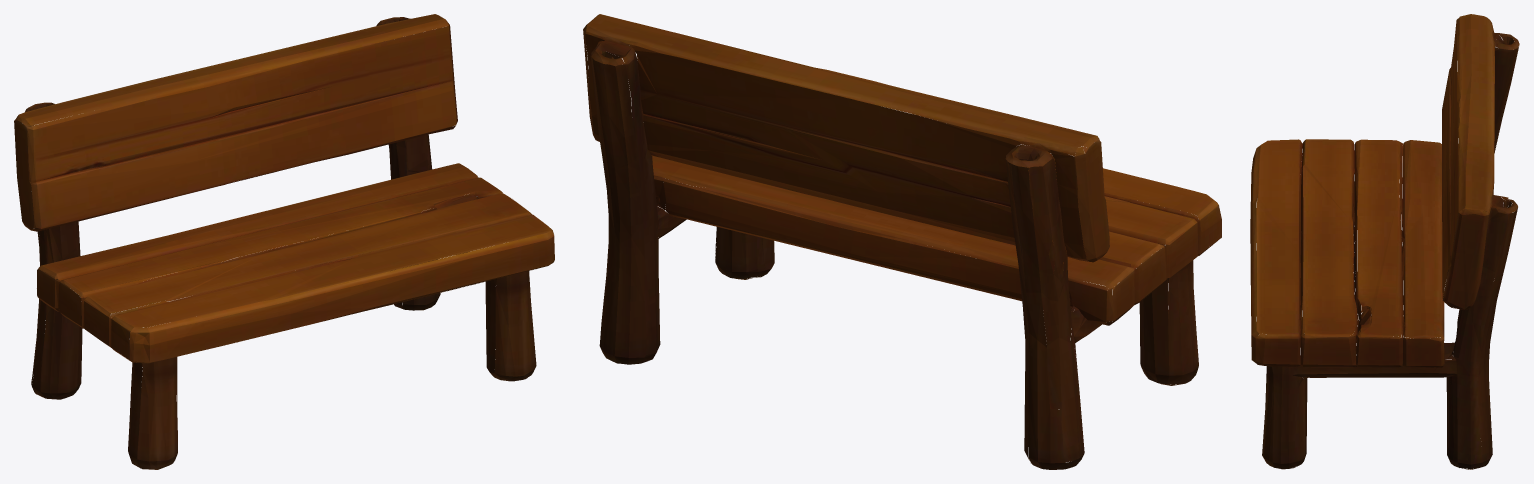
File: bench.glb
The picture shows the model from 3 angles, left to right: view 1: azimuth 30°, elevation 25°; view 2: azimuth 150°, elevation 25°; view 3: azimuth 270°, elevation 25°; orthographic projection. The views are drawn at different scales.
Visible parts, largest first — view 1: geometry_0; view 2: geometry_0; view 3: geometry_0.
Part boxes in pixels (left/top/right/bottom): geometry_0: left=14, top=14, right=554, bottom=469; geometry_0: left=583, top=14, right=1221, bottom=469; geometry_0: left=1250, top=14, right=1519, bottom=469.
Size of the model in its own units: 0.9994 by 0.6357 by 0.5744.
Materials: 1 (1 with a texture image).
